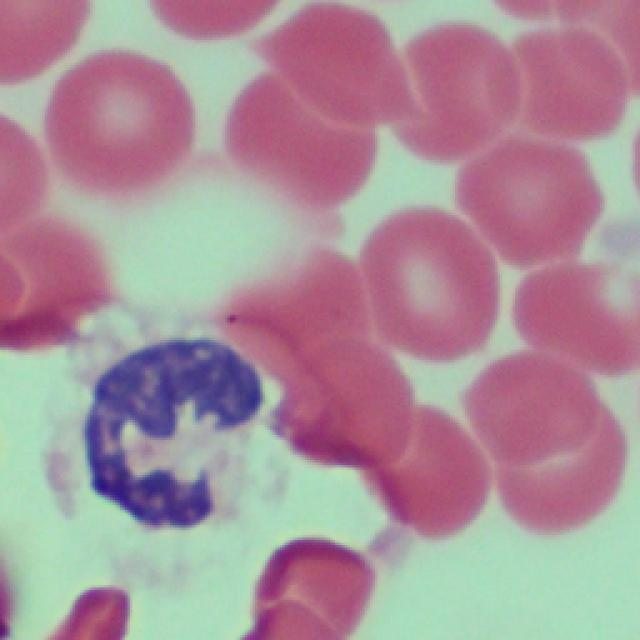RBC: (470, 353, 630, 536), (39, 45, 192, 212), (477, 3, 640, 158), (349, 200, 499, 364), (219, 64, 367, 226), (376, 5, 524, 163), (271, 328, 419, 472), (460, 120, 596, 266), (258, 0, 405, 126), (0, 125, 90, 330), (516, 235, 638, 382), (366, 412, 496, 547), (241, 532, 368, 637), (0, 0, 88, 88), (139, 0, 287, 46)
WBC: (97, 321, 271, 521)
